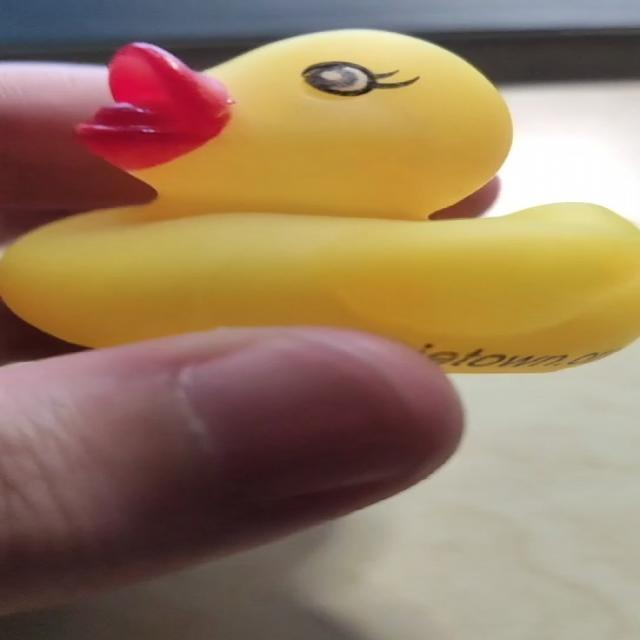rubber-duck: (0, 29, 638, 370)
